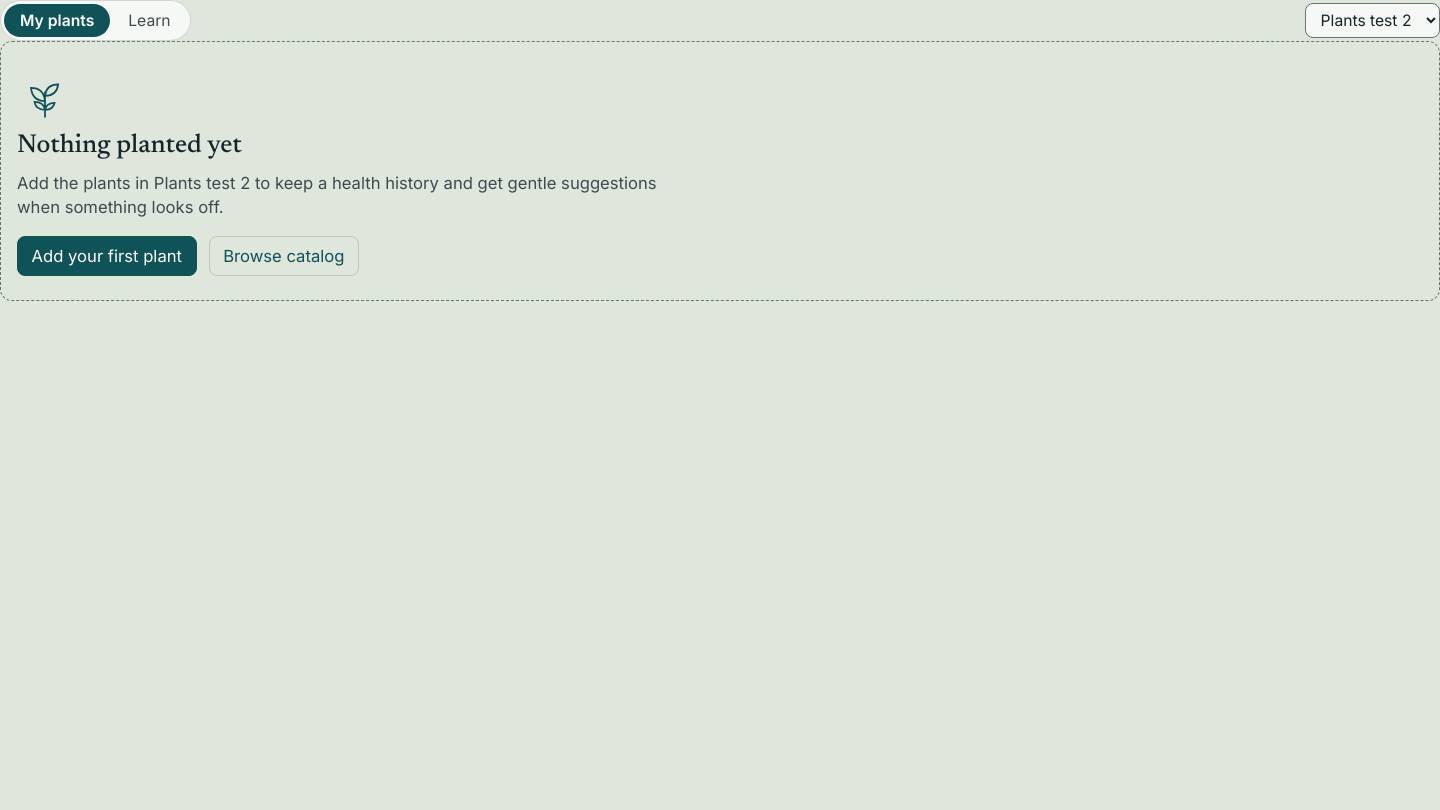
Scenario: adding a plant › adds from the catalog in a few taps, with placement and date prefilled
Expected: the navigation bar named "Plants sections" is shown, [0, 0, 191, 41]
Step 1. Click the button "Add your first plant" → [107, 256], box [17, 236, 197, 276]
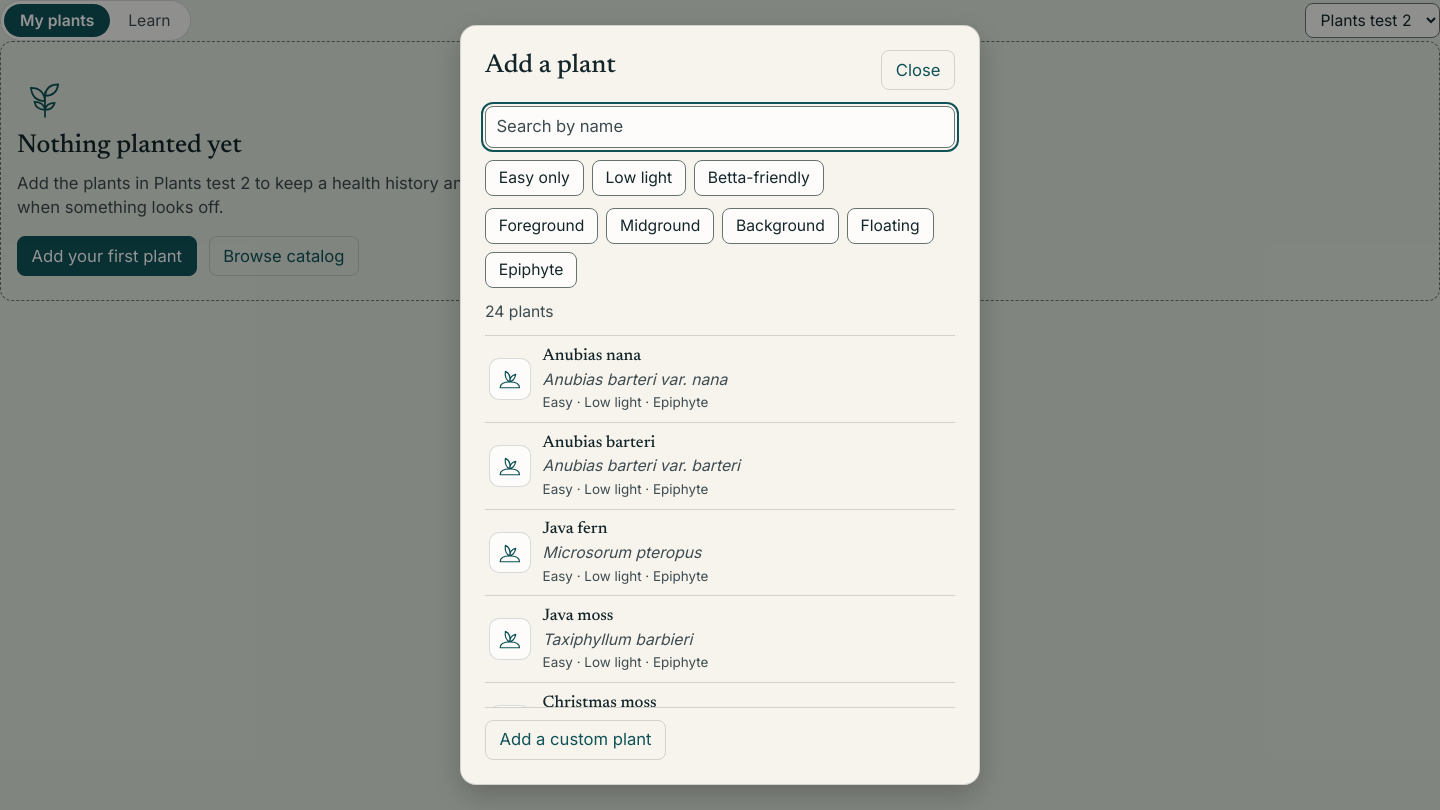
Result: the text "24 plants" is shown at [485, 302, 554, 321]
Step 2. Type "swo" into the search field named "Search plants" → [720, 127], box [485, 106, 955, 148]
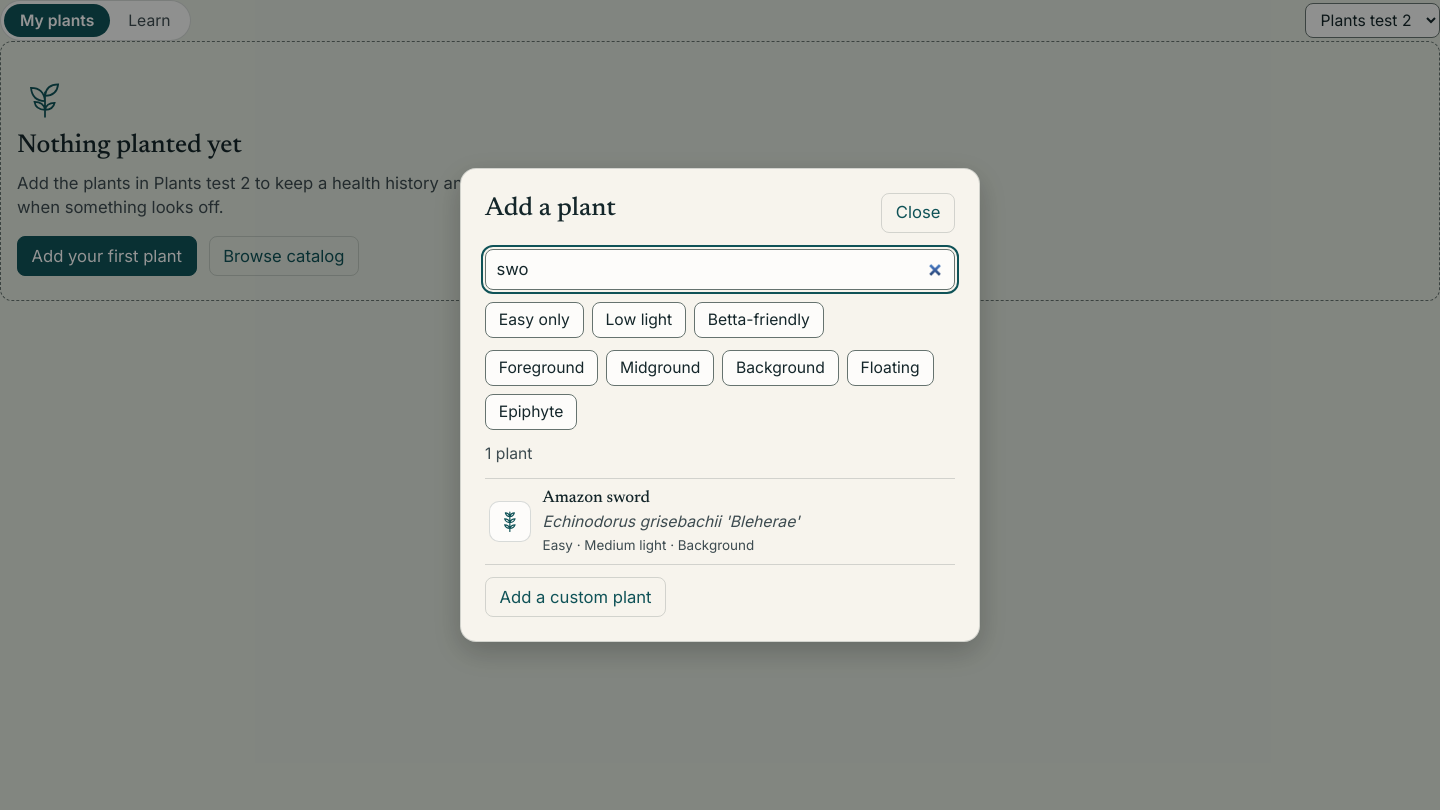
Result: the text "1 plant" is shown at [485, 444, 532, 463]
Step 3. Click the button "Amazon sword" → [720, 522], box [485, 479, 955, 564]
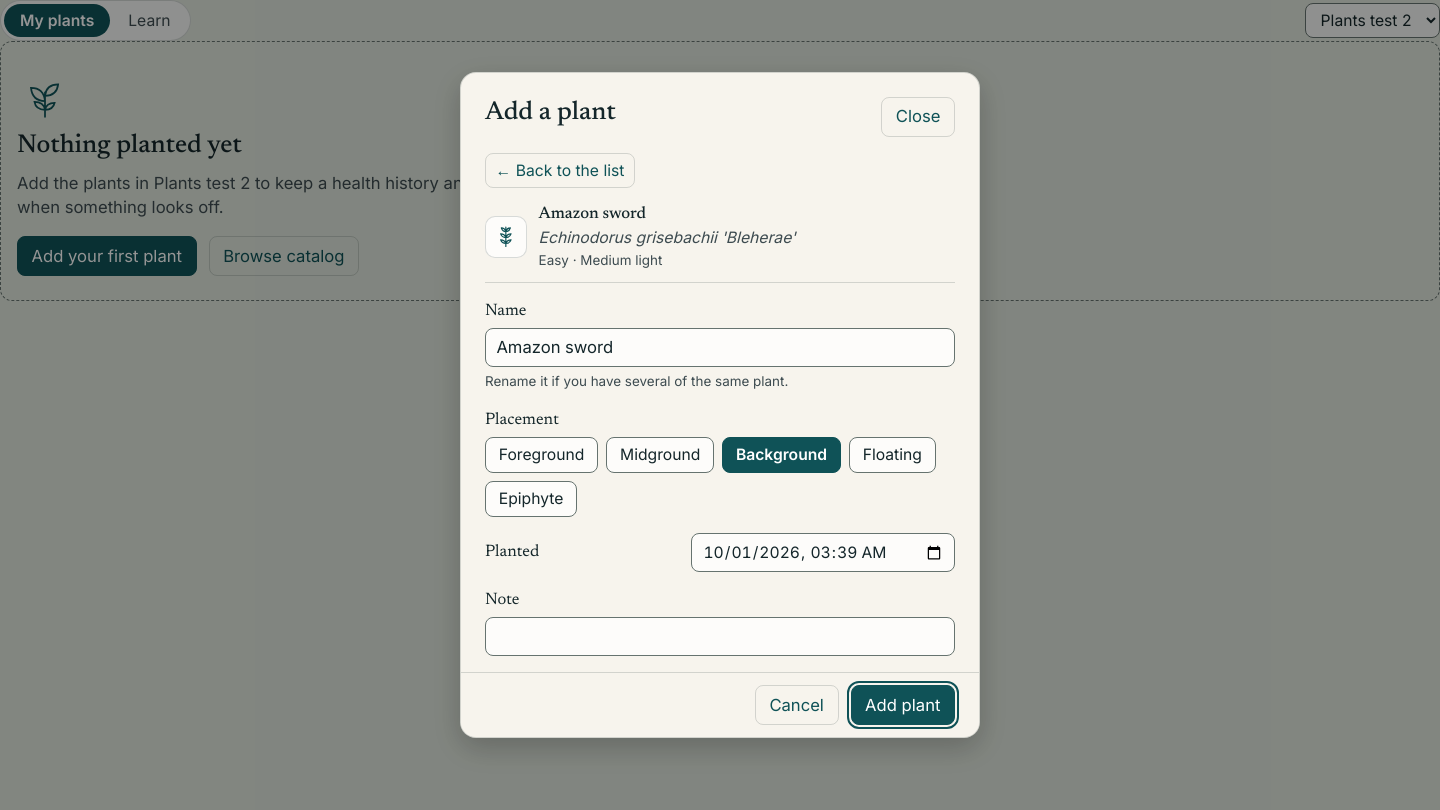
Result: the field labelled "Name" holds "Amazon sword" at [485, 328, 955, 367]
Step 4. Click the button "Add plant" → [903, 705], box [850, 685, 955, 725]
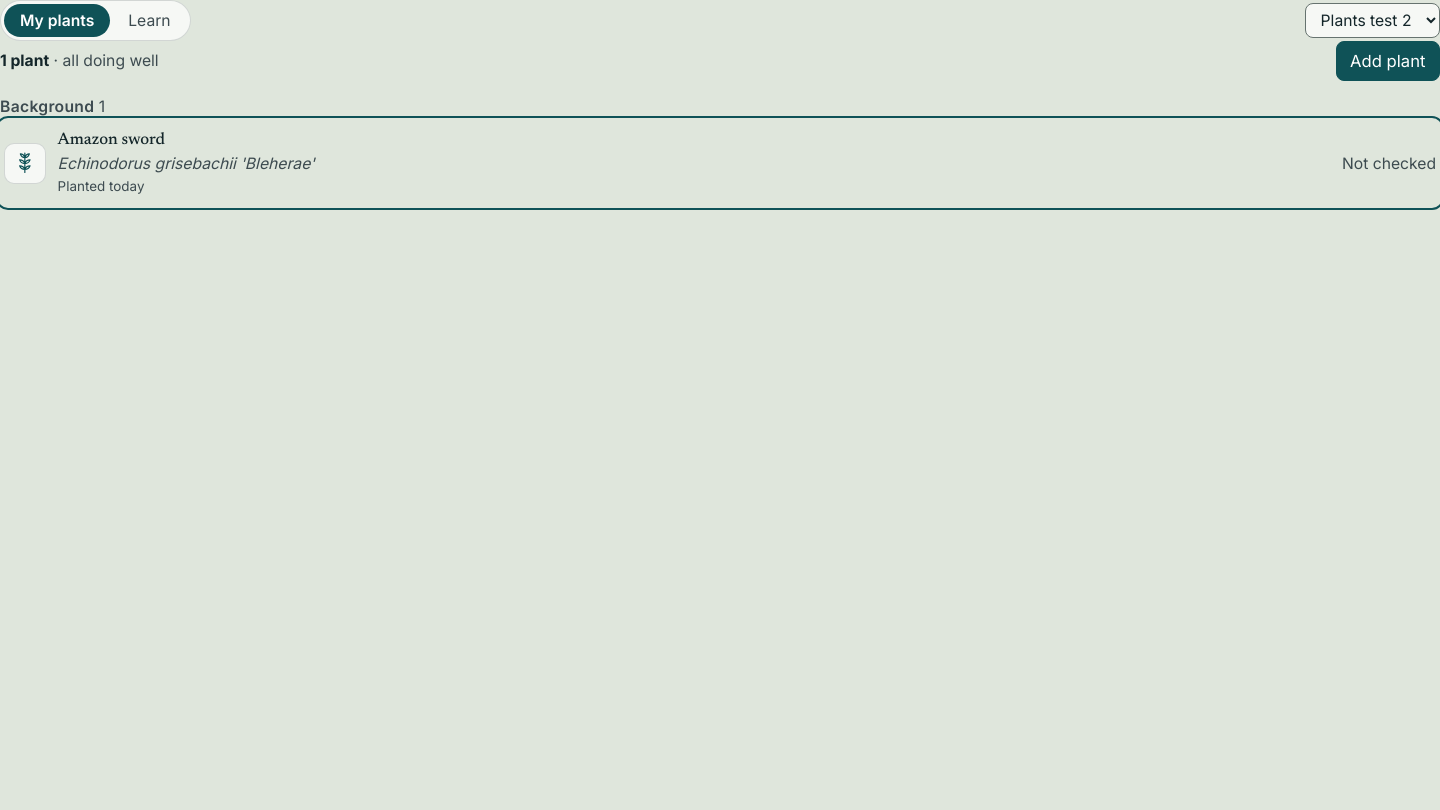
Result: the text "Amazon sword" is shown at [58, 132, 165, 148]
Result: the text "Echinodorus grisebachii 'Bleherae'" is shown at [58, 154, 315, 173]
Result: the dialog is gone
